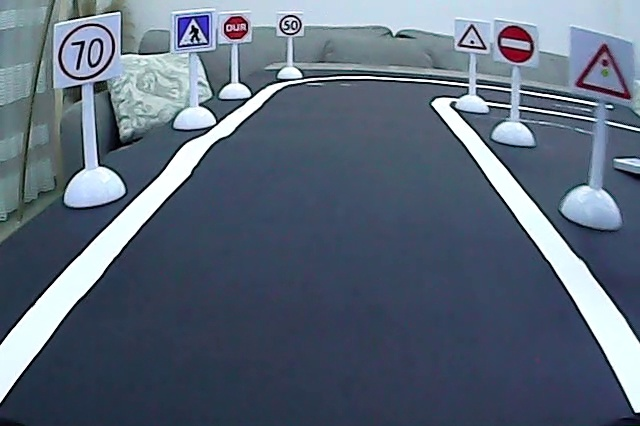do not enter: (495, 22, 537, 65)
green light: (455, 22, 488, 54)
pedestrian crossing: (175, 14, 214, 49)
red light: (571, 38, 636, 106)
speed limit 50: (278, 13, 303, 37)
speed limit 70: (52, 18, 119, 84)
stop sign: (222, 14, 252, 43)
